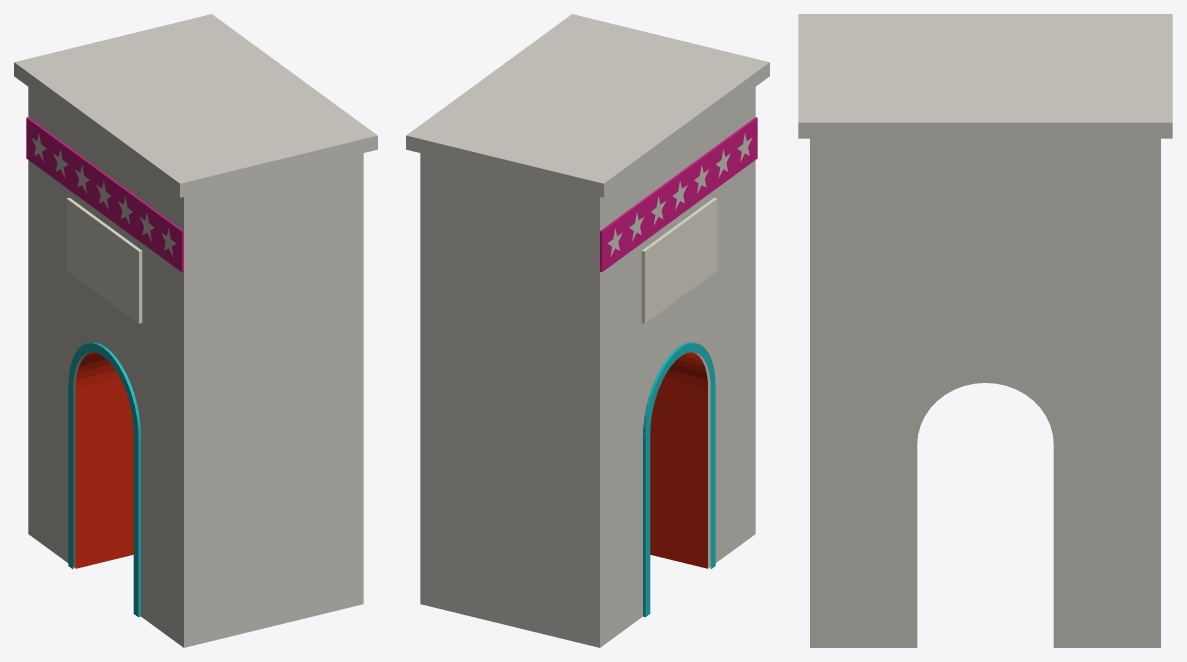
Rendered from SM_PeriTower.fbx.
3 renders of one model, left to right at view 1: azimuth 30°, elevation 25°; view 2: azimuth 150°, elevation 25°; view 3: azimuth 270°, elevation 25°, orthographic. The views are drawn at different scales.
Visible parts, largest first — view 1: SM_PeriTower; view 2: SM_PeriTower; view 3: SM_PeriTower.
Part boxes in pixels (x1,y1,x2,y2): SM_PeriTower: [14, 14, 377, 647]; SM_PeriTower: [406, 14, 769, 647]; SM_PeriTower: [798, 14, 1172, 647].
Size of the model in its own units: 1320 by 1920 by 3000.
